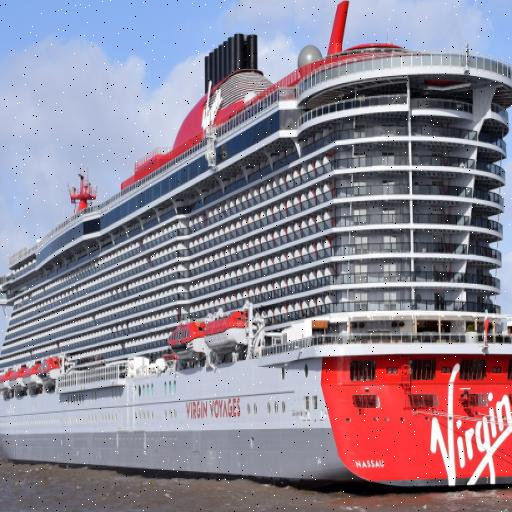cruises: (1, 1, 512, 502)
